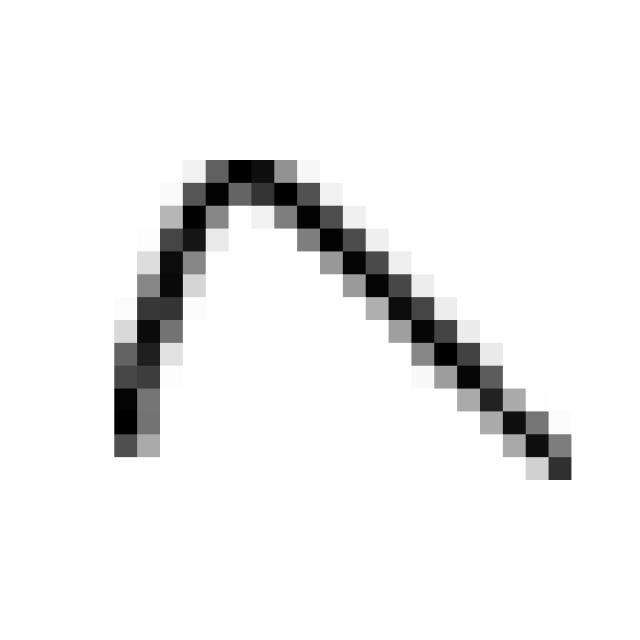8 -eight-: (82, 135, 590, 509)
